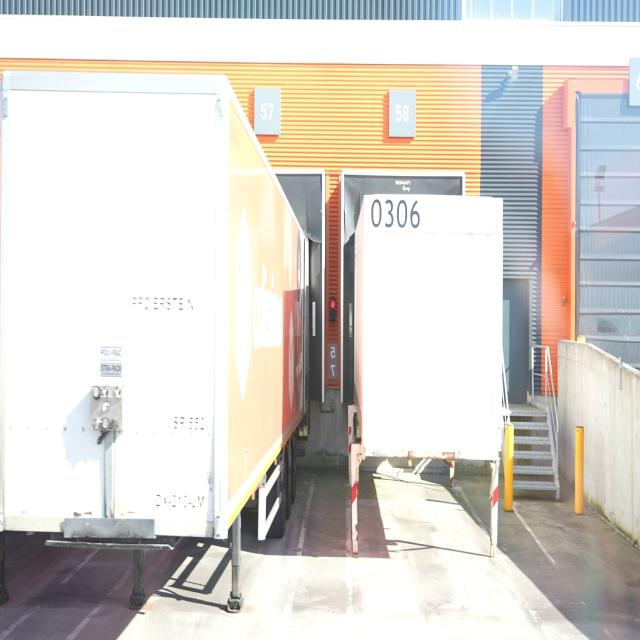Code: (369, 192, 423, 234)
